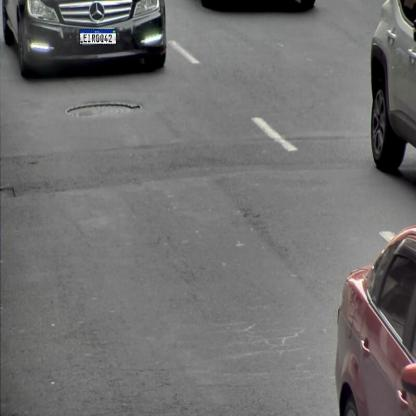PlacaM: (80, 29, 116, 44)
